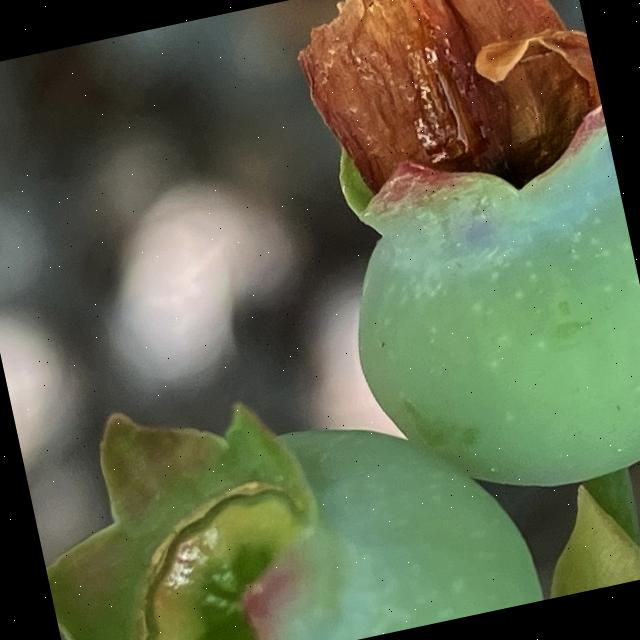Blueberries: (302, 30, 640, 527), (19, 344, 544, 640)
